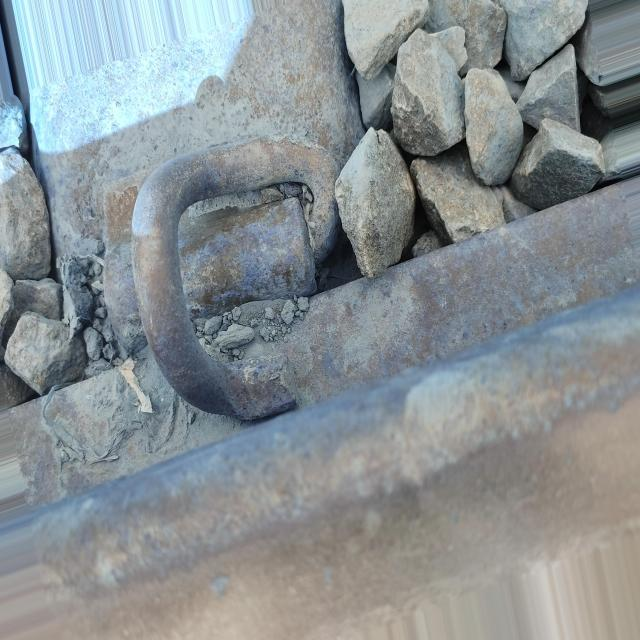Good Fasteners: (92, 122, 358, 442)
